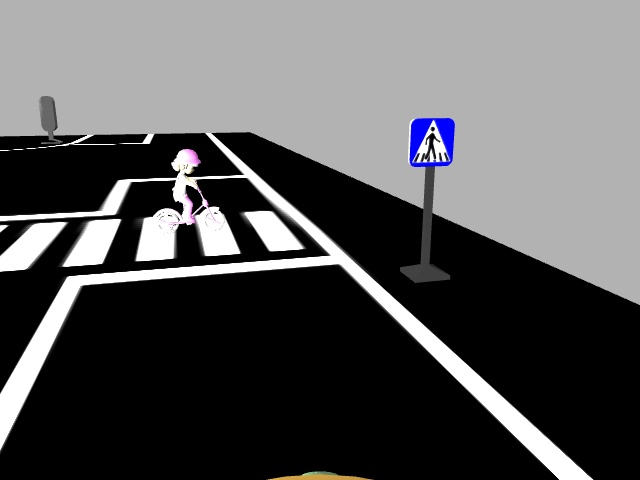Crosswalk: (404, 113, 458, 170)
Pedestrian: (148, 145, 227, 238)
